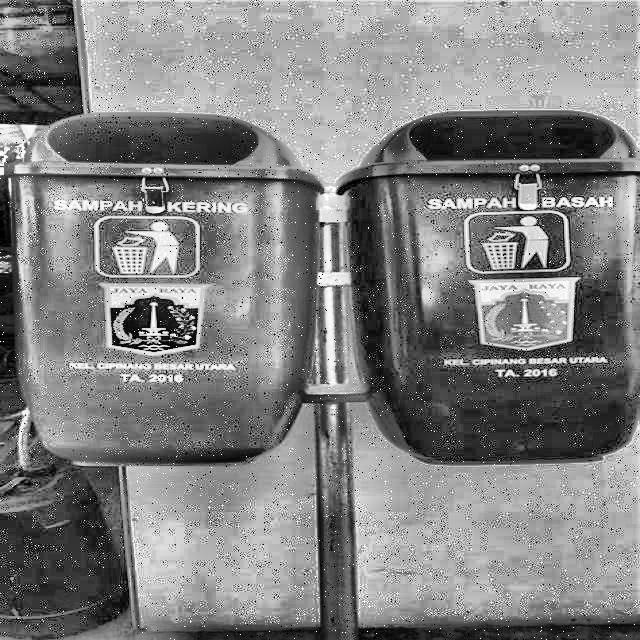Dustbin: (0, 85, 344, 481), (337, 91, 640, 469)
